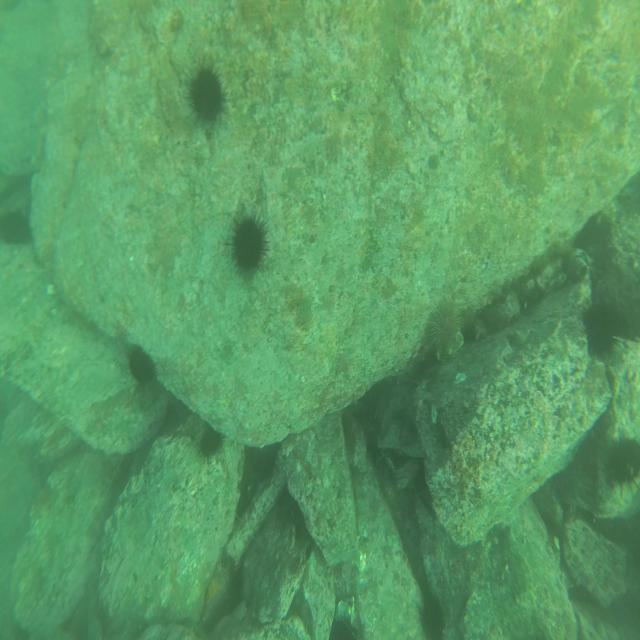echinus: (222, 213, 268, 273), (187, 59, 225, 131), (584, 305, 620, 360), (430, 300, 463, 353), (610, 436, 640, 494), (129, 345, 156, 384), (422, 597, 447, 637), (197, 431, 223, 460), (329, 620, 359, 640)
starfish: (203, 573, 231, 621)
